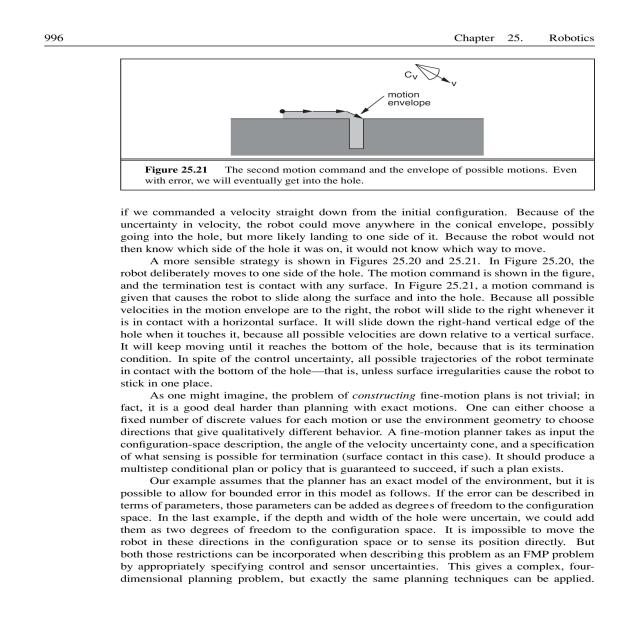diagram: (105, 49, 640, 192)
